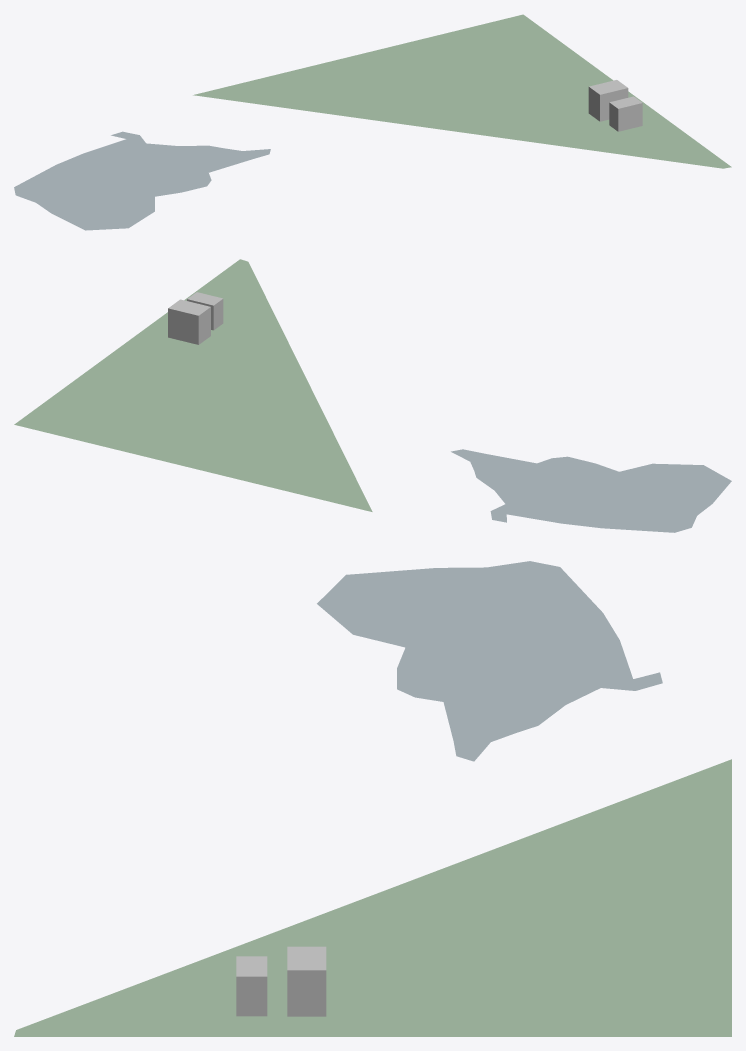
Rendered from 139_115_mid.glb.
The picture shows the model from 3 angles, top to bottom: view 1: azimuth 30°, elevation 25°; view 2: azimuth 150°, elevation 25°; view 3: azimuth 270°, elevation 25°; orthographic projection. The views are drawn at different scales.
Size of the model in its own units: 339 by 15.48 by 216.
